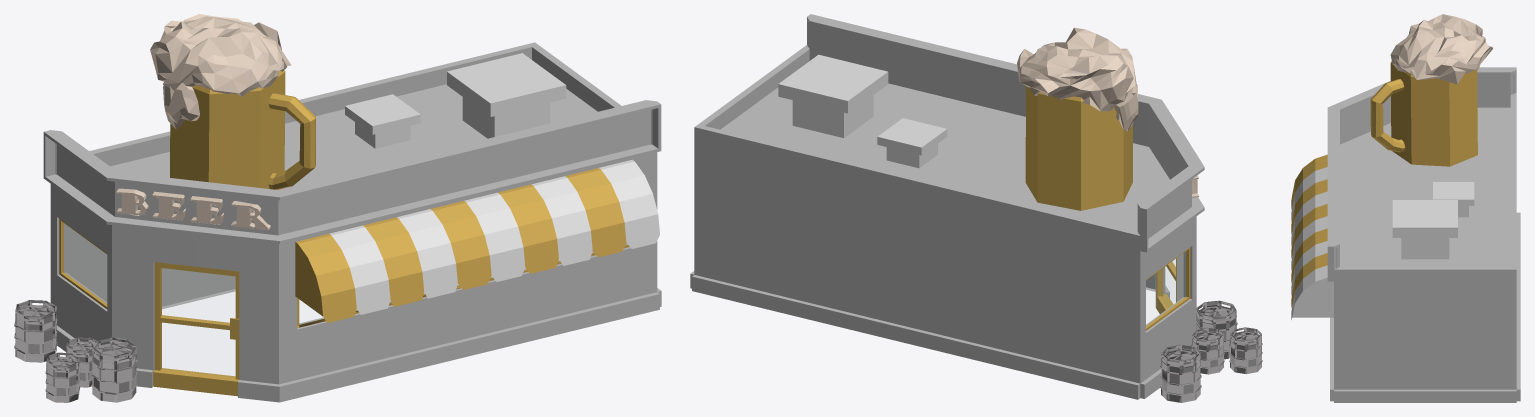
The model's file is SM_Cerveceria.fbx.
3 views of the same model, side by side, from view 1: azimuth 30°, elevation 25°; view 2: azimuth 150°, elevation 25°; view 3: azimuth 270°, elevation 25° (orthographic). The views are drawn at different scales.
Parts seen in each view (by area): view 1: Cube, Toldo, Jarra, Espuma, Chimenea, Puerta, Rotulo, Chimenea_1, Barril01, Barril04, Barril03, Barril02 (+1 smaller); view 2: Cube, Jarra, Espuma, Chimenea, Chimenea_1, Barril04, Barril03, Barril01, Barril02, Puerta, Marco_Corto; view 3: Cube, Jarra, Toldo, Espuma, Chimenea, Chimenea_1.
Part boxes in pixels (x1,y1,x2,y2): Cube: [43, 42, 661, 402]; Toldo: [295, 159, 659, 323]; Jarra: [170, 70, 315, 189]; Espuma: [150, 14, 291, 129]; Chimenea: [447, 53, 566, 138]; Puerta: [153, 262, 239, 396]; Rotulo: [116, 188, 270, 229]; Chimenea_1: [345, 94, 420, 148]; Barril01: [91, 337, 137, 402]; Barril04: [14, 300, 57, 362]; Barril03: [45, 352, 80, 402]; Barril02: [65, 337, 96, 387]; Cube: [690, 14, 1204, 399]; Jarra: [1025, 86, 1132, 210]; Espuma: [1017, 27, 1138, 132]; Chimenea: [778, 54, 888, 137]; Chimenea_1: [877, 118, 947, 168]; Barril04: [1160, 344, 1201, 402]; Barril03: [1229, 327, 1262, 374]; Barril01: [1196, 300, 1237, 359]; Barril02: [1191, 327, 1224, 374]; Puerta: [1156, 258, 1176, 313]; Marco_Corto: [1146, 247, 1190, 330]; Cube: [1327, 67, 1520, 402]; Jarra: [1370, 61, 1477, 166]; Toldo: [1291, 154, 1333, 319]; Espuma: [1390, 14, 1492, 84]; Chimenea: [1392, 200, 1457, 259]; Chimenea_1: [1433, 182, 1474, 217].
Size of the model in its own units: 525 by 292 by 251.
